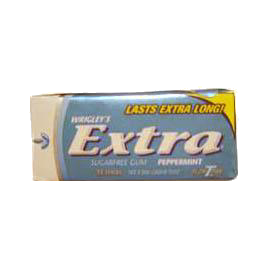grozi_5: (30, 88, 238, 181)
